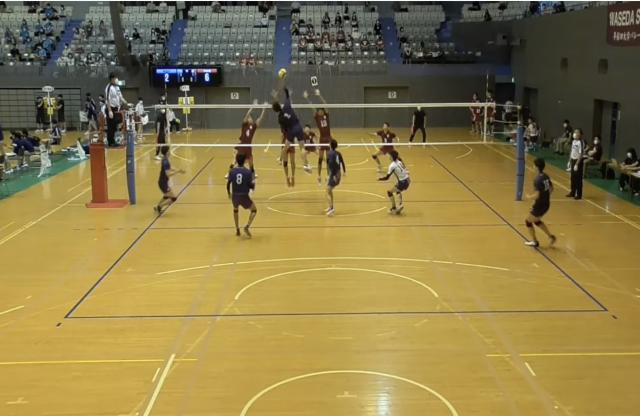spike: (268, 65, 314, 174)
